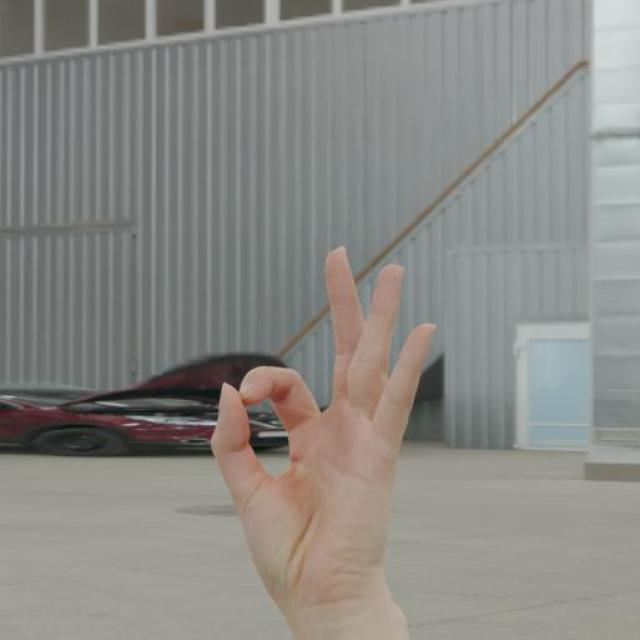F: (204, 242, 440, 598)
